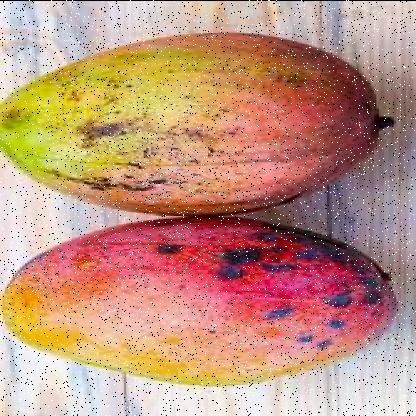damaged_apple: (7, 26, 396, 214), (3, 220, 396, 386)
